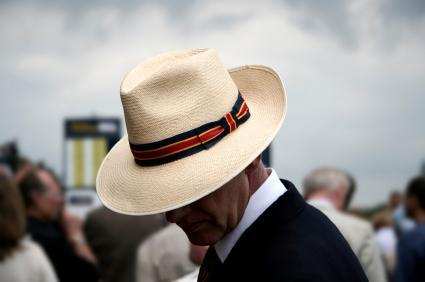cap: (91, 27, 294, 238)
